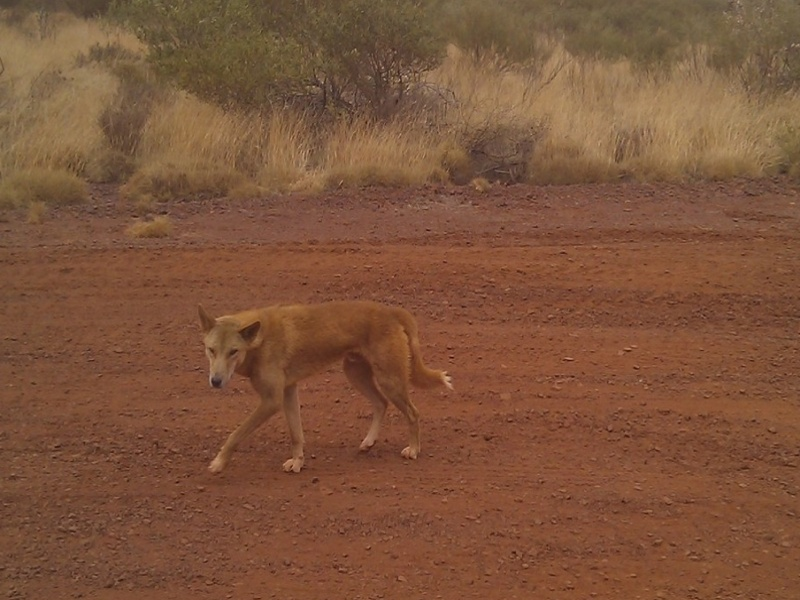dog: (187, 302, 456, 472)
